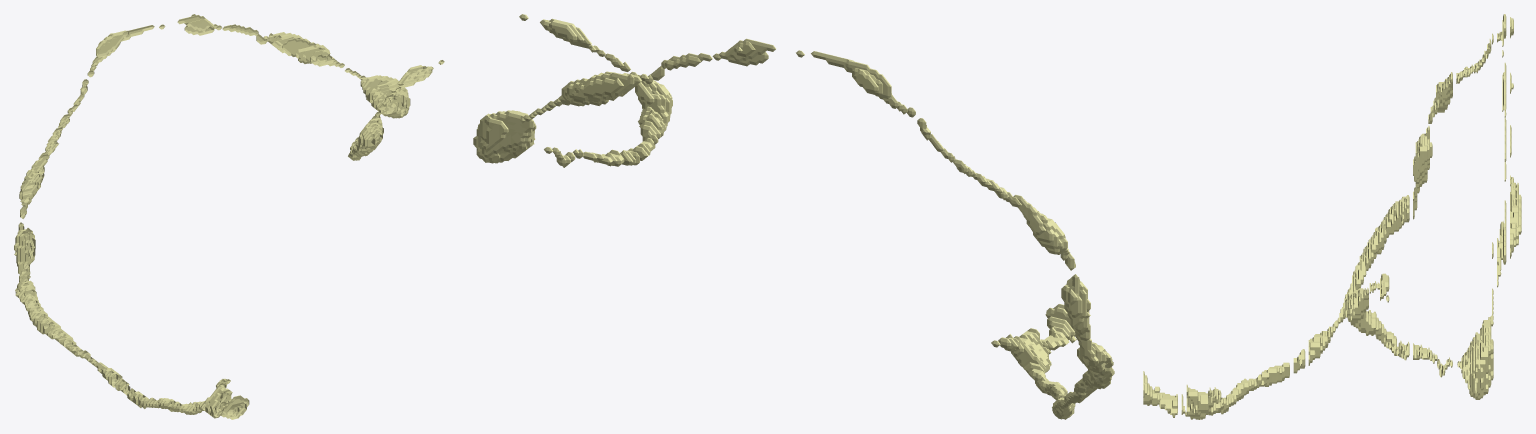
Rendered from SVV_SAADL.gltf.
The picture shows the model from 3 angles, left to right: view 1: azimuth 30°, elevation 25°; view 2: azimuth 150°, elevation 25°; view 3: azimuth 270°, elevation 25°; orthographic projection. The views are drawn at different scales.
Parts seen in each view (by area): view 1: SAADL; view 2: SAADL; view 3: SAADL.
Boxes of the visible parts, x1,y1,x2,y2 form: SAADL: [14, 14, 444, 419]; SAADL: [473, 14, 1114, 419]; SAADL: [1143, 14, 1521, 419].
Size of the model in its own units: 101428 by 68626 by 57131.
